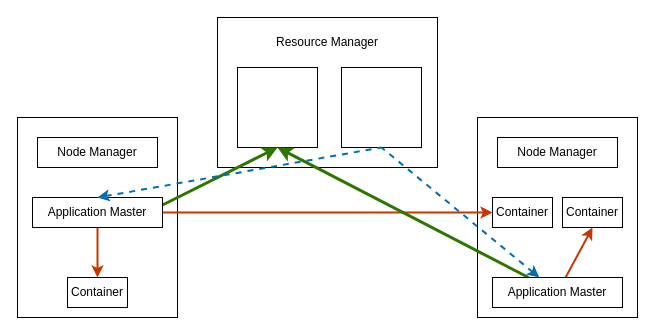
This 655x335 diagram has some shape labels left out. The shapes that lost their labels are listed below. From the top down, each one's centre as x and y in pixels, then its label:
(x=277, y=107): Resource Scheduler
(x=381, y=107): Application Manager
